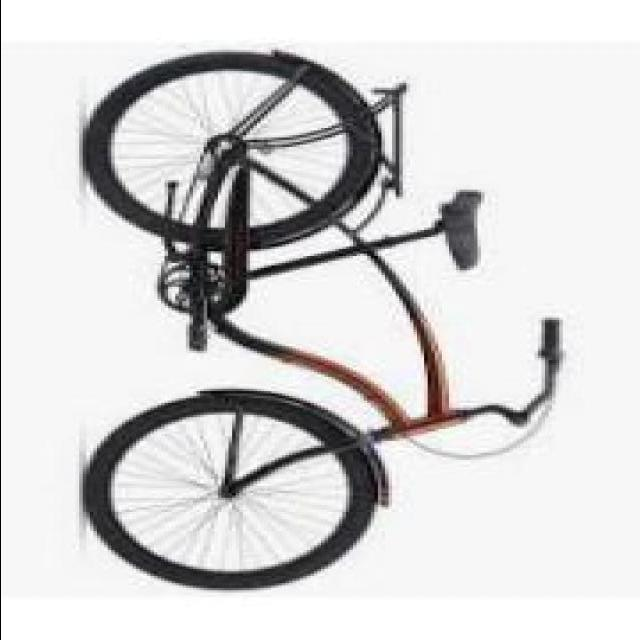bicycle: (93, 56, 573, 599)
